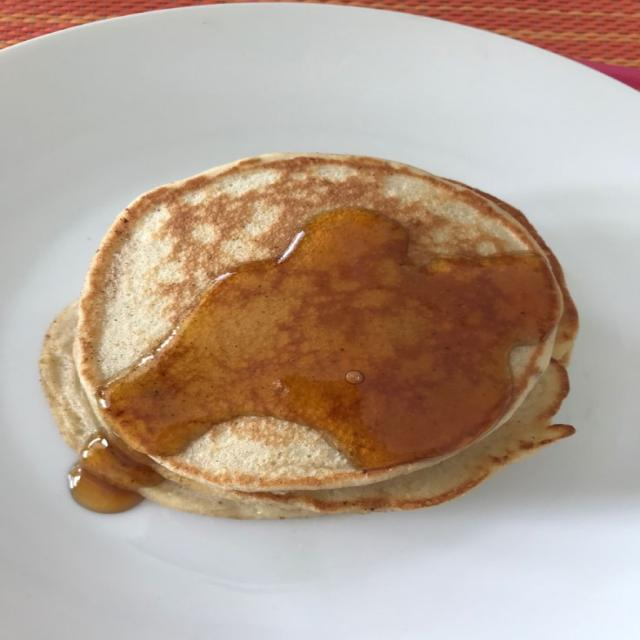pancake: (75, 155, 545, 409), (140, 361, 573, 518), (254, 361, 574, 513), (140, 480, 313, 518)
